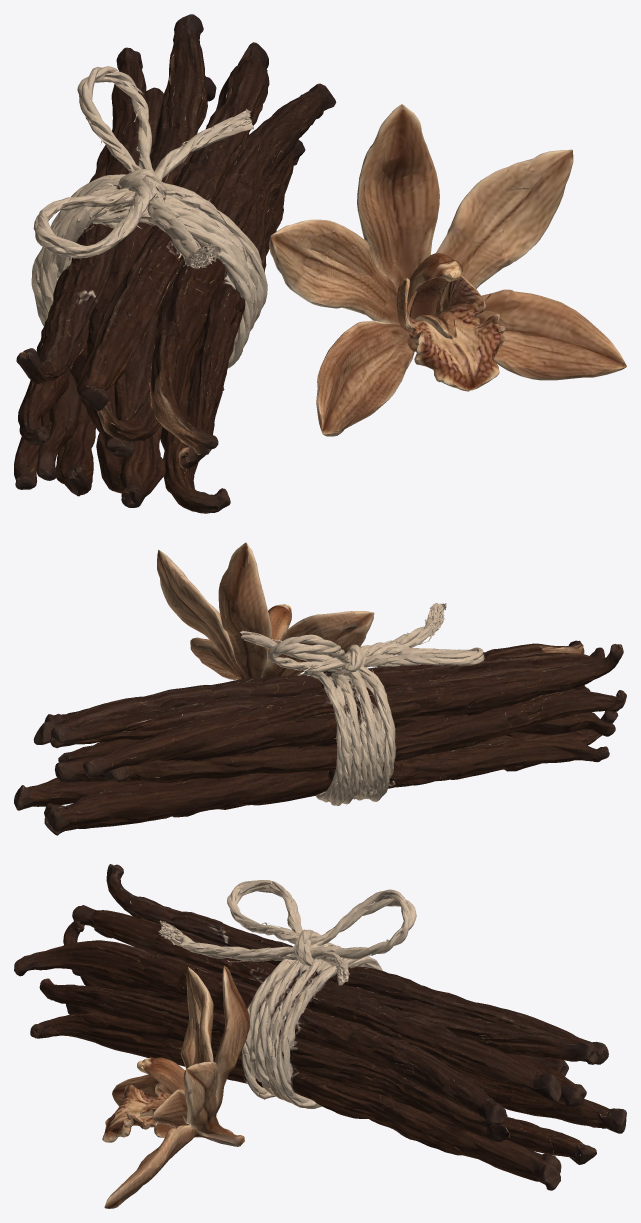
The model's file is vanilla.glb.
3 renders of one model, top to bottom at view 1: azimuth 30°, elevation 25°; view 2: azimuth 150°, elevation 25°; view 3: azimuth 270°, elevation 25°, orthographic. The views are drawn at different scales.
Visible parts, largest first — view 1: Mesh_0; view 2: Mesh_0; view 3: Mesh_0.
Part boxes in pixels (bbox=[...]): Mesh_0: bbox=[14, 14, 626, 513]; Mesh_0: bbox=[14, 542, 626, 835]; Mesh_0: bbox=[14, 864, 626, 1208].
Bounding box in the file's own units: 1.66 × 0.6806 × 1.9.
Materials: 1 (1 with a texture image).
